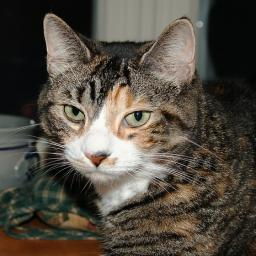catnose: (81, 148, 112, 168)
